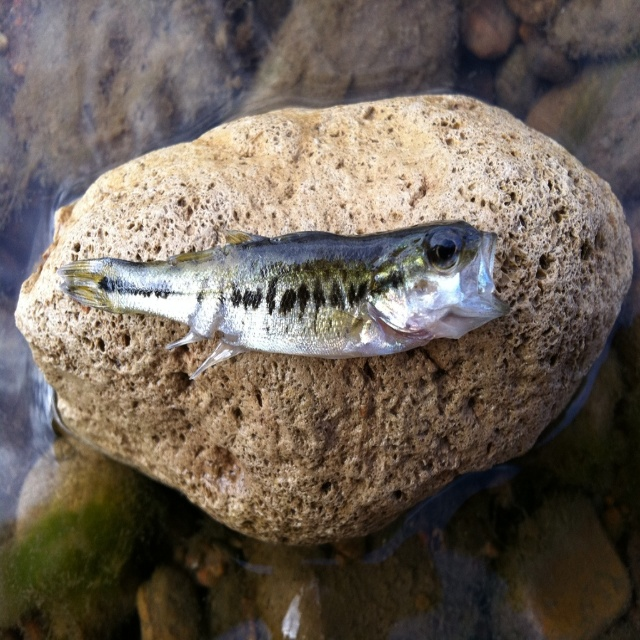Fish: (59, 213, 508, 378)
